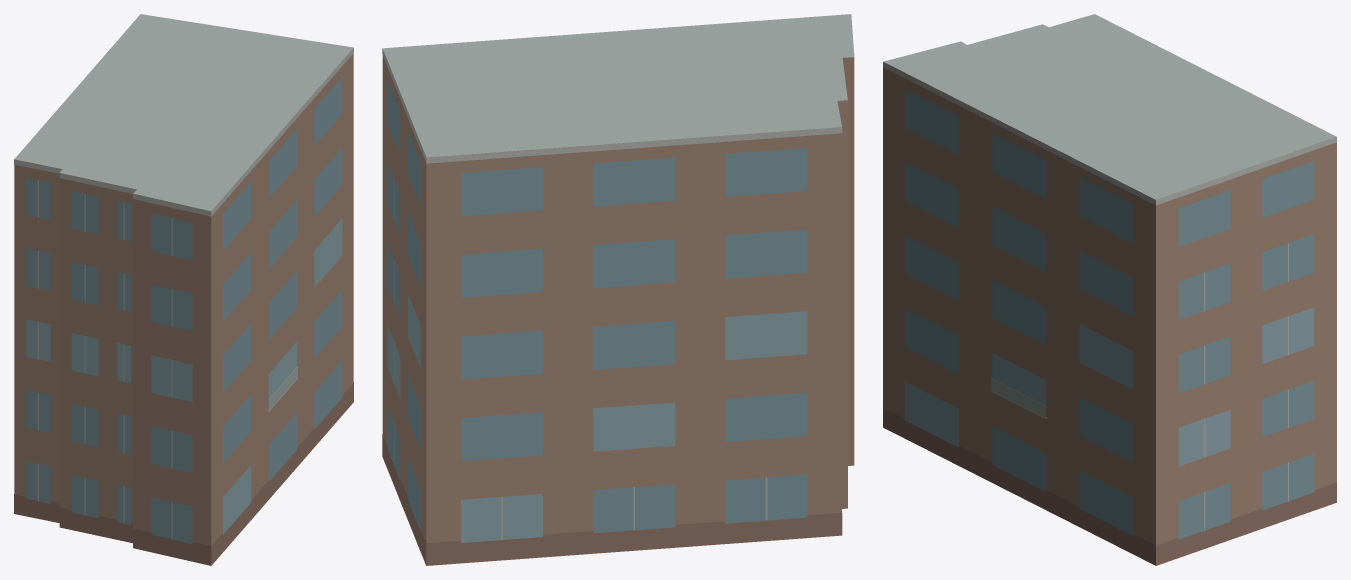
File: survey-upis-32691784.glb
3 renders of one model, left to right at view 1: azimuth 30°, elevation 25°; view 2: azimuth 150°, elevation 25°; view 3: azimuth 270°, elevation 25°, orthographic. The views are drawn at different scales.
Parts seen in each view (by area): view 1: survey-upis-32691784.tmp; view 2: survey-upis-32691784.tmp; view 3: survey-upis-32691784.tmp.
Boxes of the visible parts, x1=… form: survey-upis-32691784.tmp: x1=14, y1=14, x2=353, y2=565; survey-upis-32691784.tmp: x1=382, y1=14, x2=854, y2=565; survey-upis-32691784.tmp: x1=883, y1=14, x2=1336, y2=565.
Size of the model in its own units: 17.61 by 16.15 by 18.16.
